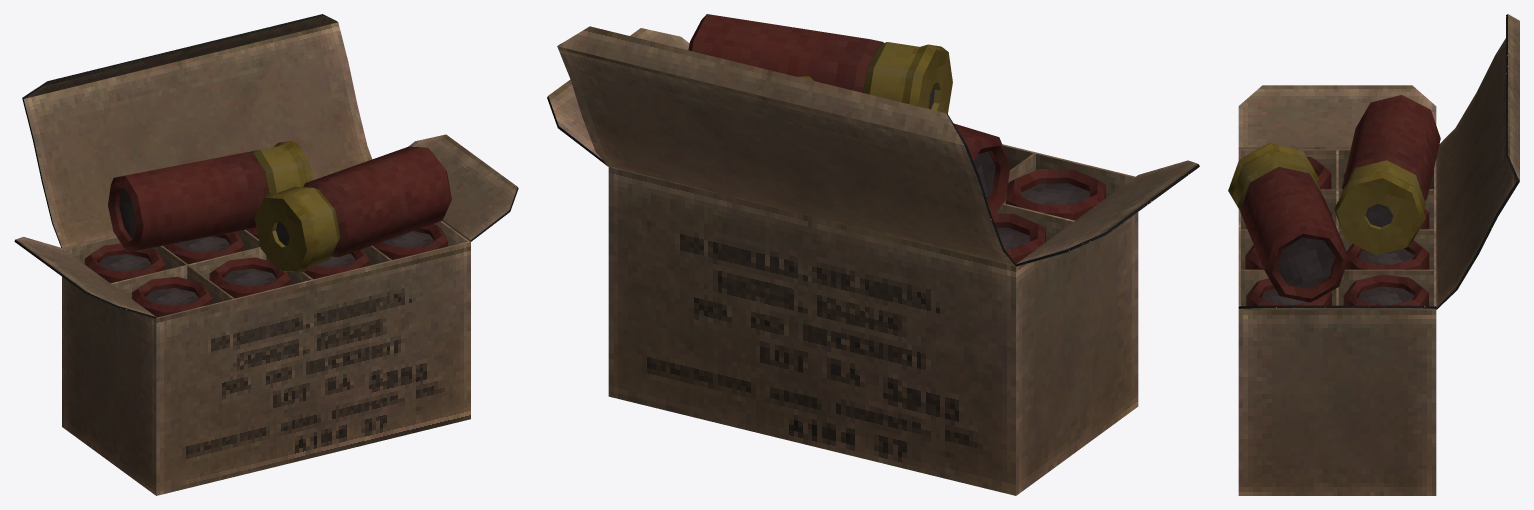
File: shotgun_ammo_2.glb
3 views of the same model, side by side, from view 1: azimuth 30°, elevation 25°; view 2: azimuth 150°, elevation 25°; view 3: azimuth 270°, elevation 25° (orthographic). The views are drawn at different scales.
Parts seen in each view (by area): view 1: shotgun_ammo_2; view 2: shotgun_ammo_2; view 3: shotgun_ammo_2.
Boxes of the visible parts, x1,y1,x2,y2 form: shotgun_ammo_2: (14,14,518,495); shotgun_ammo_2: (547,14,1199,495); shotgun_ammo_2: (1228,14,1519,495).
Bounding box in the file's own units: 0.1979 × 0.138 × 0.1102.
Materials: 1 (1 with a texture image).
